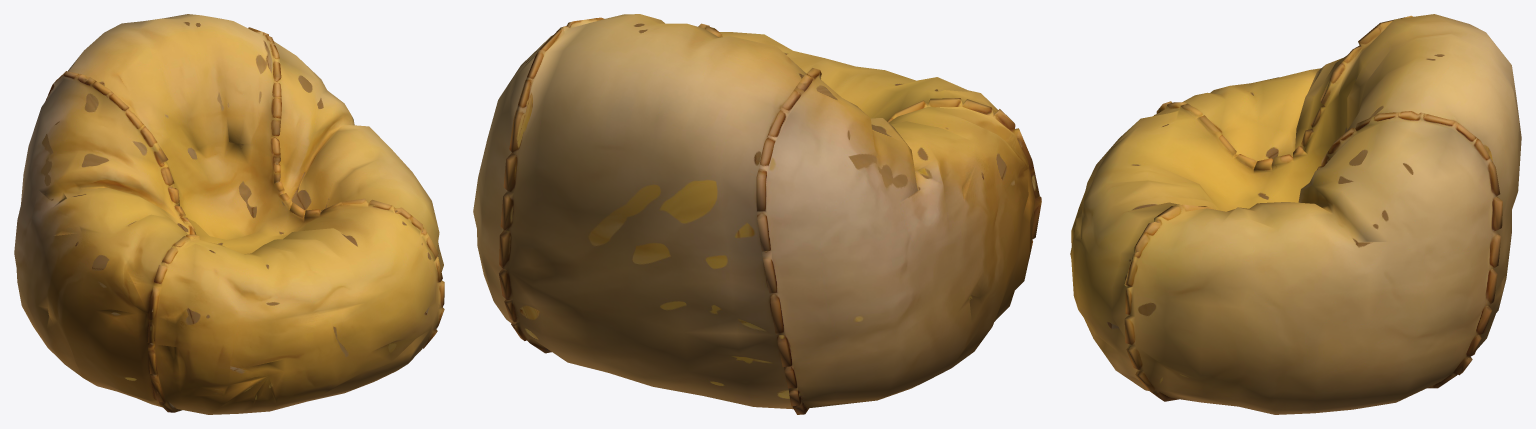
File: armutkoltuk.glb
The picture shows the model from 3 angles, left to right: view 1: azimuth 30°, elevation 25°; view 2: azimuth 150°, elevation 25°; view 3: azimuth 270°, elevation 25°; orthographic projection. The views are drawn at different scales.
Visible parts, largest first — view 1: tripo_node_68118006-9063-4675-822f-7b1408f34d4d; view 2: tripo_node_68118006-9063-4675-822f-7b1408f34d4d; view 3: tripo_node_68118006-9063-4675-822f-7b1408f34d4d.
Boxes of the visible parts, x1=… form: tripo_node_68118006-9063-4675-822f-7b1408f34d4d: x1=14, y1=14, x2=444, y2=414; tripo_node_68118006-9063-4675-822f-7b1408f34d4d: x1=473, y1=14, x2=1041, y2=414; tripo_node_68118006-9063-4675-822f-7b1408f34d4d: x1=1070, y1=14, x2=1521, y2=414.
Bounding box in the file's own units: 0.9772 × 0.7286 × 0.9695.
Materials: 1 (1 with a texture image).
